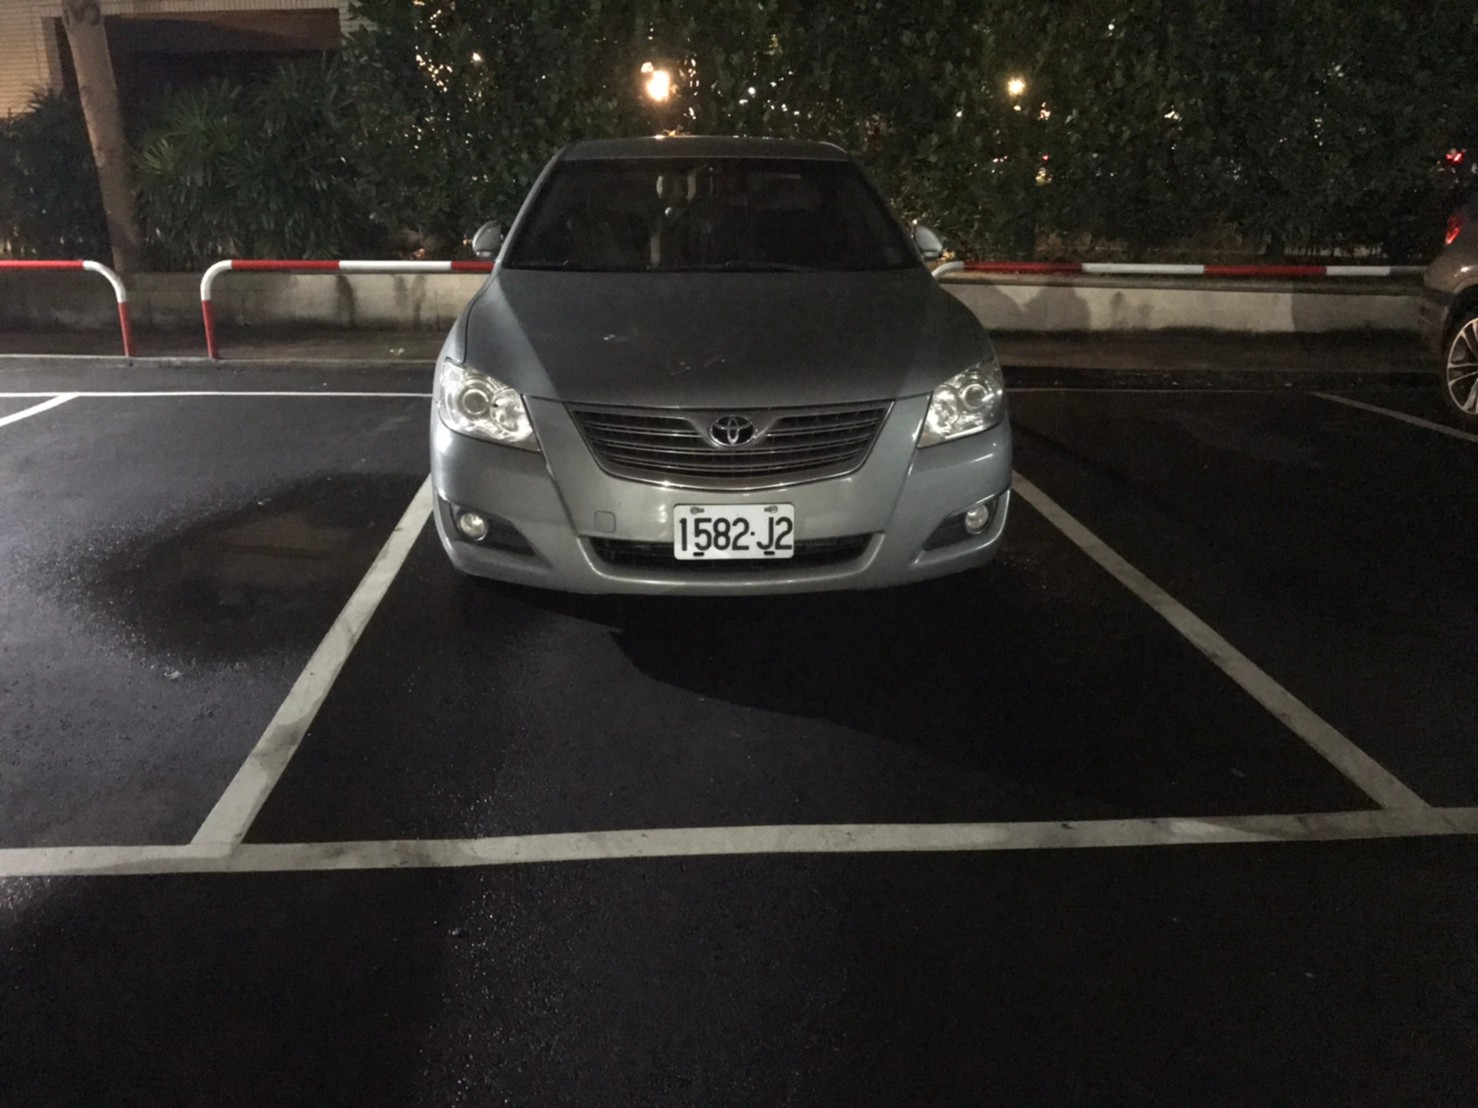LP: (672, 497, 802, 565)
